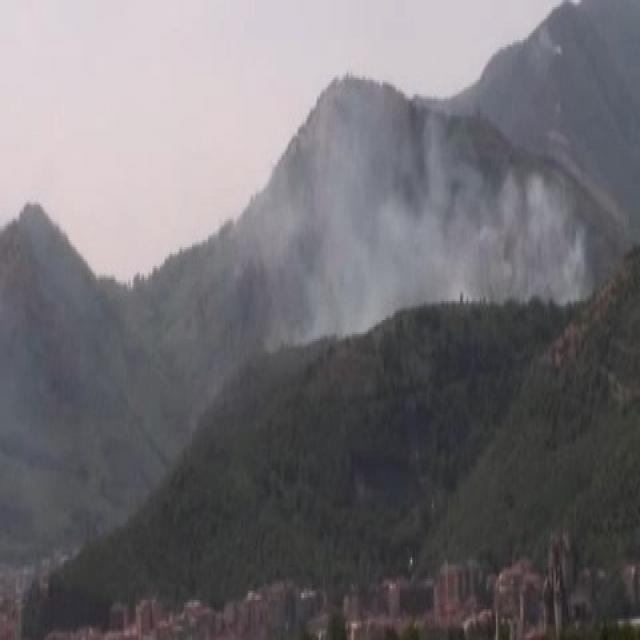smoke: (319, 159, 592, 303)
